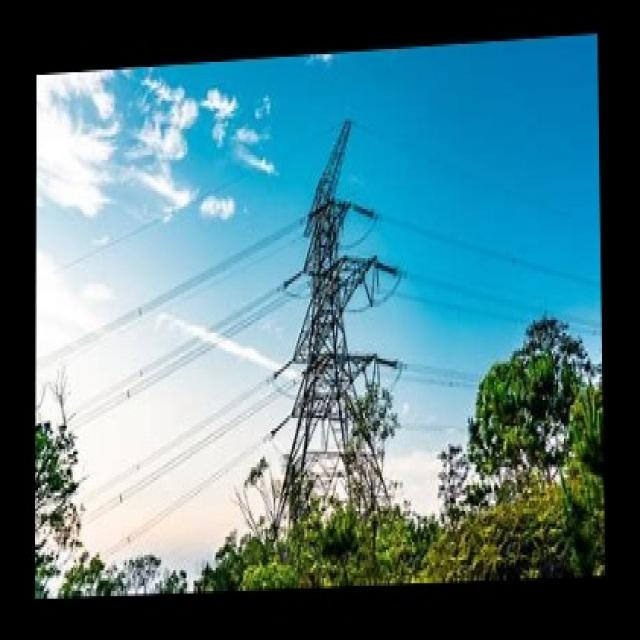utility poles: (473, 268, 577, 452), (316, 343, 411, 494)
